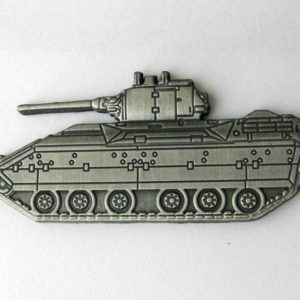Battle Tank: (1, 78, 300, 224)
